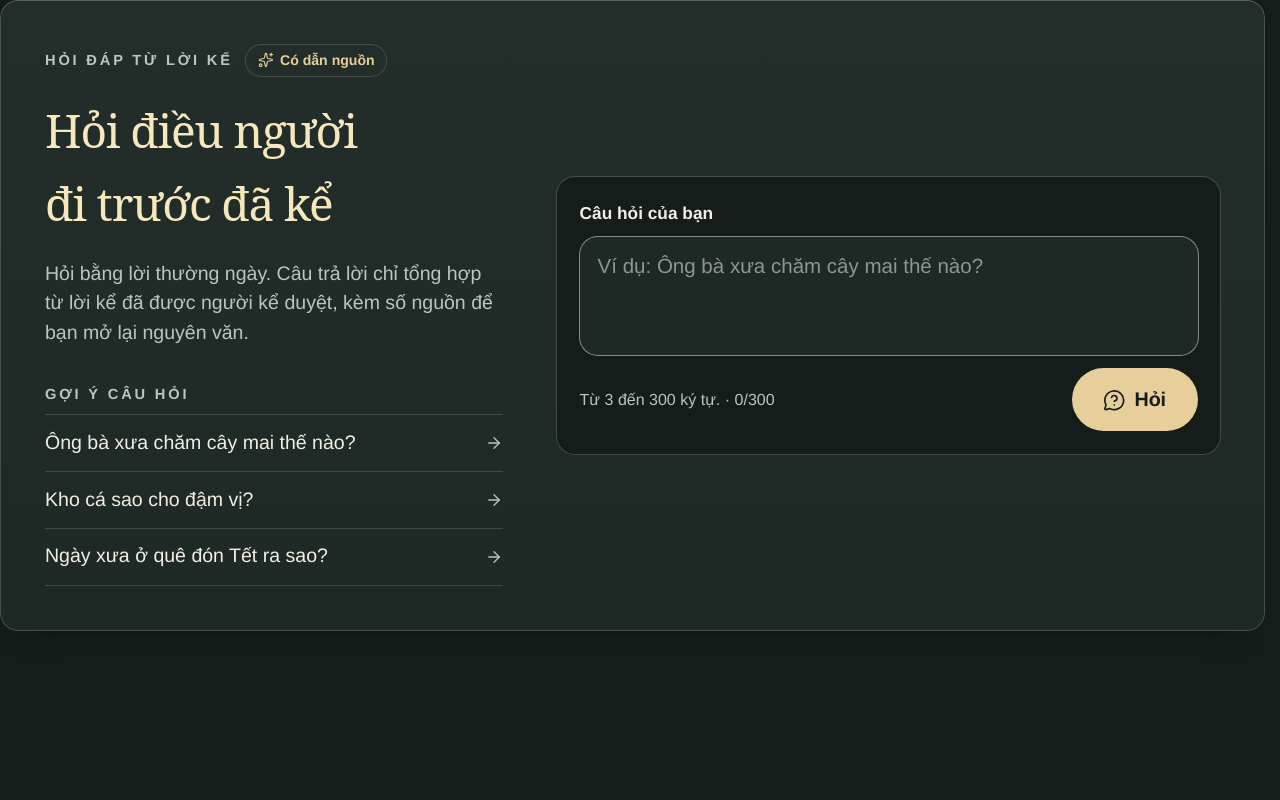
Test: AskTheElders › answers an example question with numbered citation links and the disclaimer
This screenshot has width=1280, height=800.
Check: the heading "Hỏi điều người đi trước đã kể" is shown, box [45,99,357,235]
Click the button "Ông bà xưa chăm cây mai thế nào?": [274, 443] box [45,415,503,471]
(page scrolled)
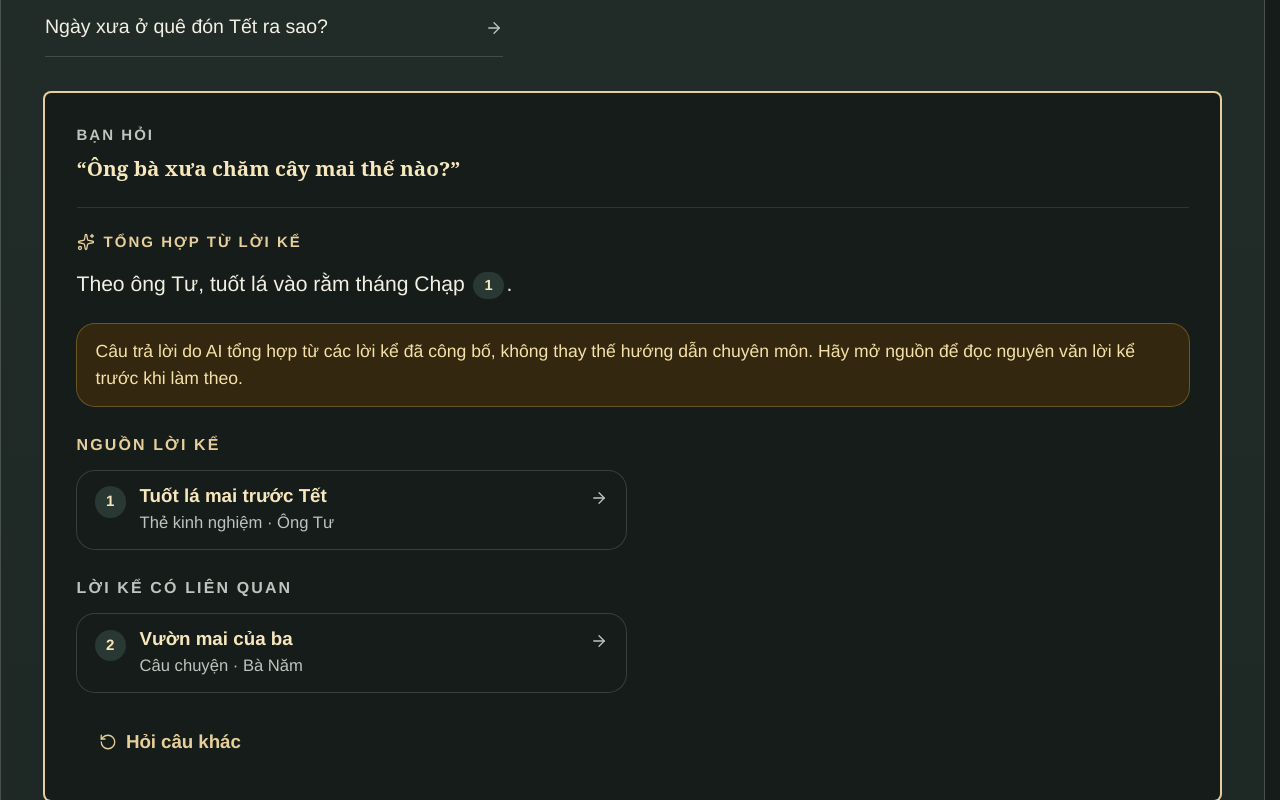
Check: the text "không thay thế hướng dẫn chuyên môn" is shown, box [96,341,813,361]
Check: the heading "Nguồn lời kể" is shown, box [76,434,220,454]
Check: the heading "Lời kể có liên quan" is shown, box [76,578,292,597]
